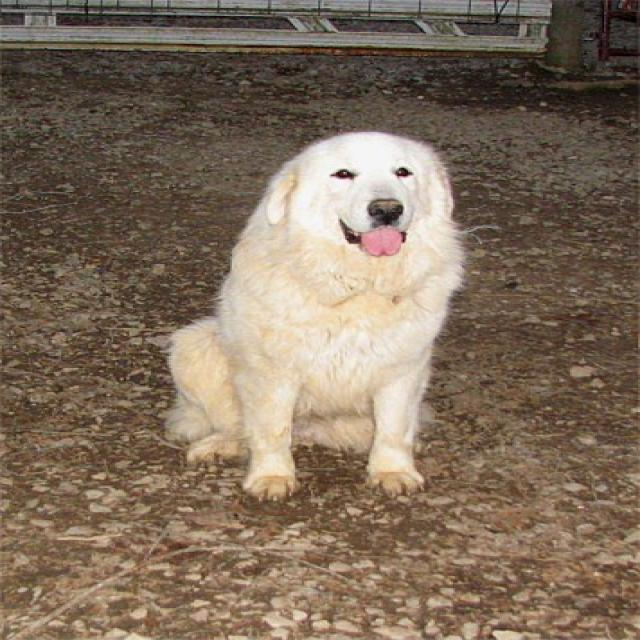dog-great_pyrenees: (142, 125, 471, 509)
